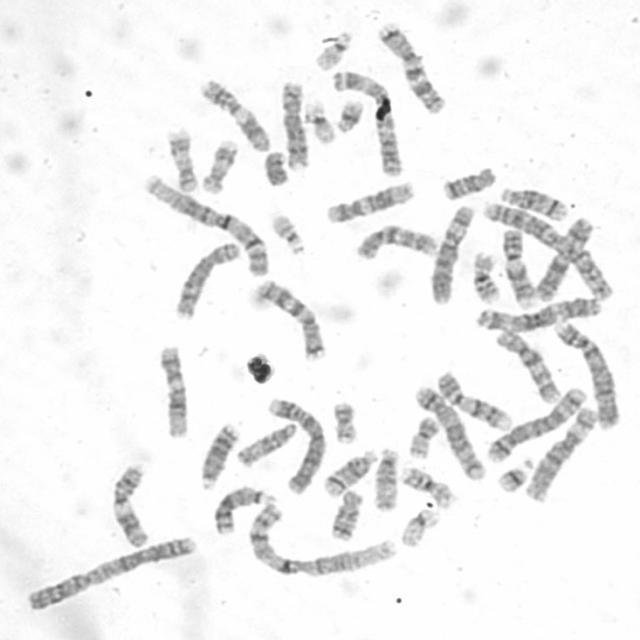A1: (139, 171, 272, 279), (245, 500, 398, 579)
A2: (481, 195, 617, 303), (21, 532, 199, 613)
A3: (329, 64, 405, 178), (474, 293, 603, 333)
B4: (552, 316, 622, 430), (264, 392, 327, 496)
B5: (484, 383, 588, 465), (412, 381, 487, 482)
C10: (493, 326, 562, 404), (353, 220, 439, 262)
C11: (198, 75, 272, 154), (108, 460, 150, 550)
C12: (322, 178, 417, 225), (156, 342, 190, 440)
C6: (521, 403, 600, 503), (426, 202, 476, 305)
C7: (375, 19, 447, 115), (250, 276, 328, 363)
C8: (170, 238, 242, 321), (277, 78, 310, 173)
C9: (433, 368, 513, 431), (499, 224, 537, 308)
D13: (208, 483, 278, 537), (195, 418, 242, 491)
D14: (320, 446, 378, 498), (497, 184, 569, 222)
D15: (233, 419, 300, 469), (369, 444, 402, 514)
E16: (398, 462, 458, 509), (468, 247, 502, 304)
E17: (162, 124, 199, 195), (199, 135, 240, 195)
E18: (438, 164, 498, 201), (326, 486, 364, 544)
F19: (397, 506, 442, 548), (302, 98, 338, 145)
F20: (405, 412, 442, 460), (330, 396, 358, 444)
G21: (494, 457, 534, 493), (332, 96, 366, 133)
G22: (312, 28, 354, 72), (269, 210, 306, 256)
X: (532, 214, 596, 303)
Y: (260, 148, 291, 188)
